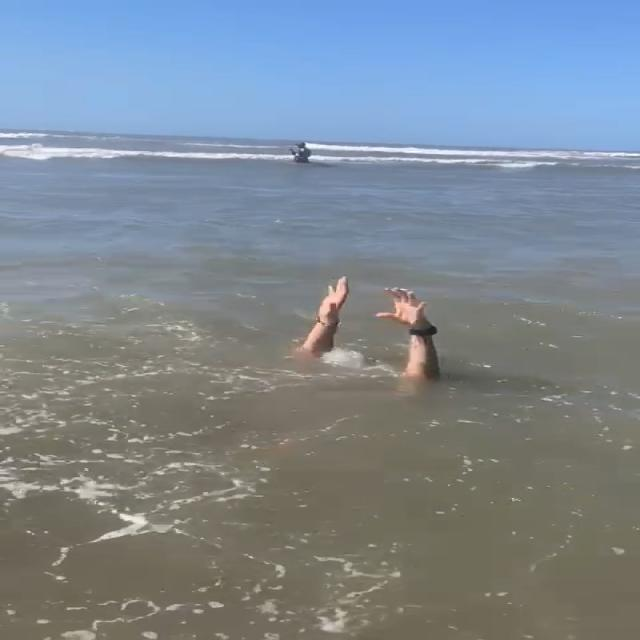Out of Water: (289, 274, 453, 384)
